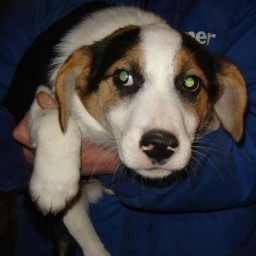dog: (4, 3, 243, 256)
